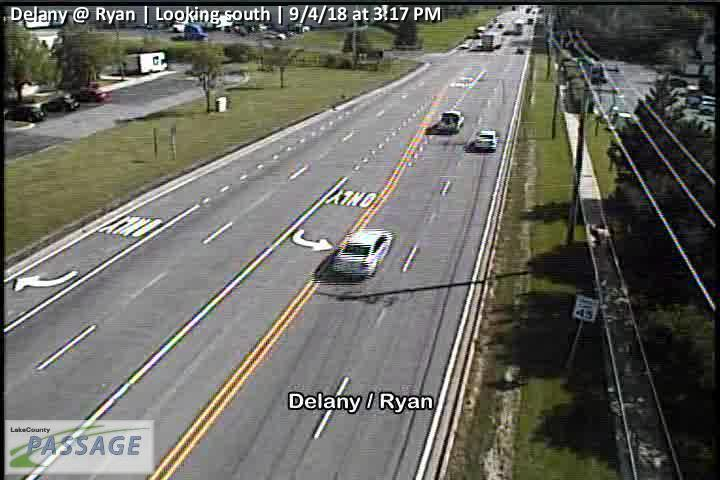Sedan: (332, 228, 396, 281), (39, 94, 82, 112), (70, 86, 112, 104), (5, 106, 45, 122), (473, 128, 497, 152)
